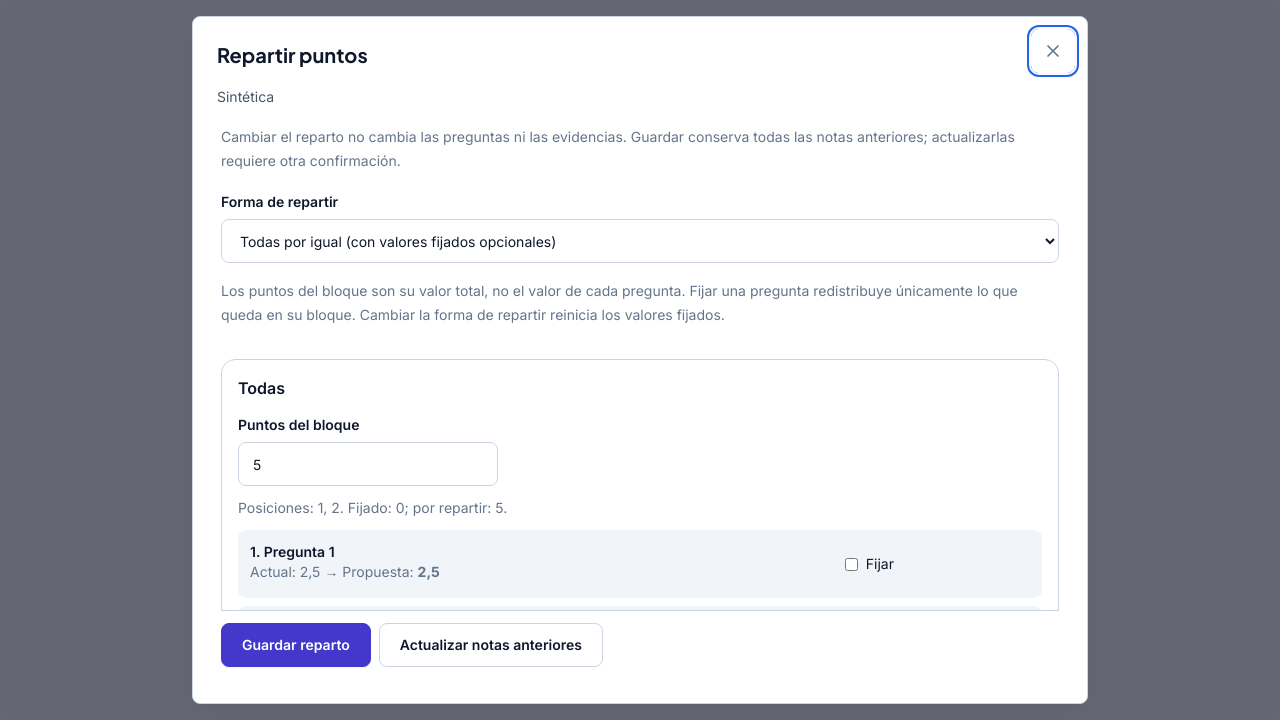
Test case: 137 revocar la lectura de notas oculta los resultados del mismo usuario
Check: the dropdown labelled "Forma de repartir" is shown, box left=221, top=219, right=1059, bottom=263
Step 1. Click the button "Actualizar notas anteriores" → (491, 645), box left=379, top=623, right=603, bottom=667
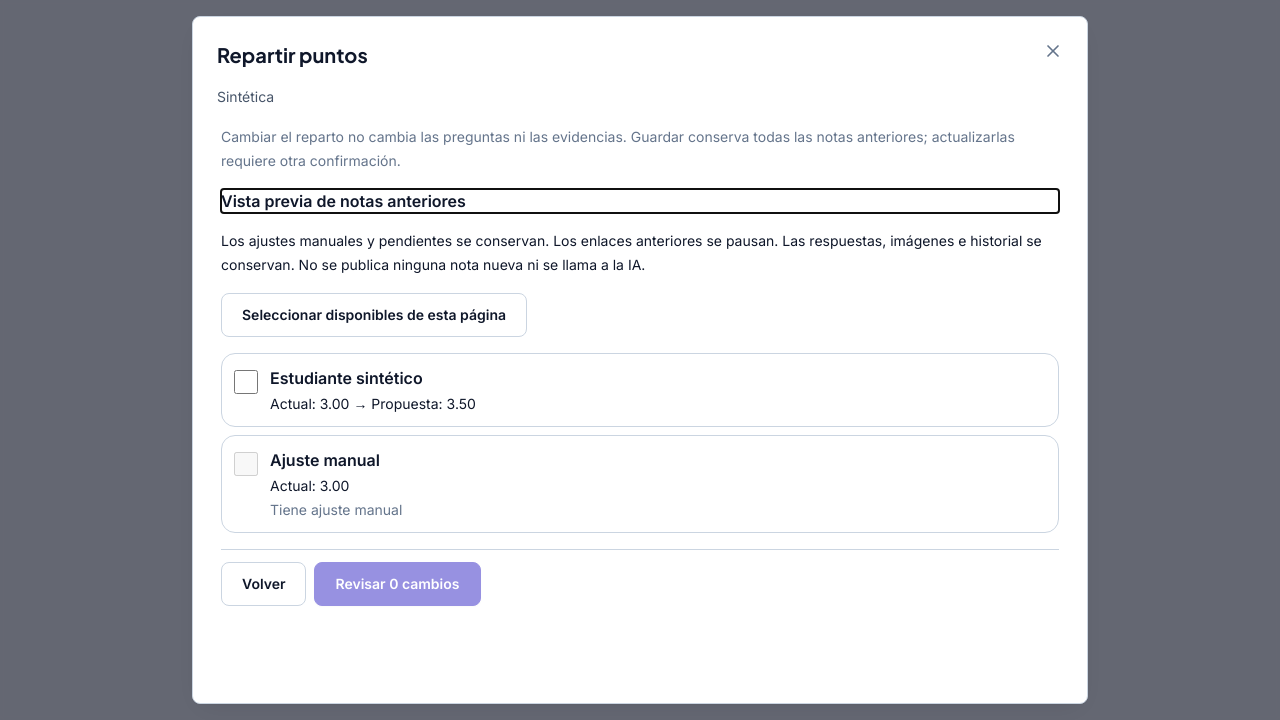
Check: the text "Estudiante sintético" is shown, box left=270, top=368, right=423, bottom=388
